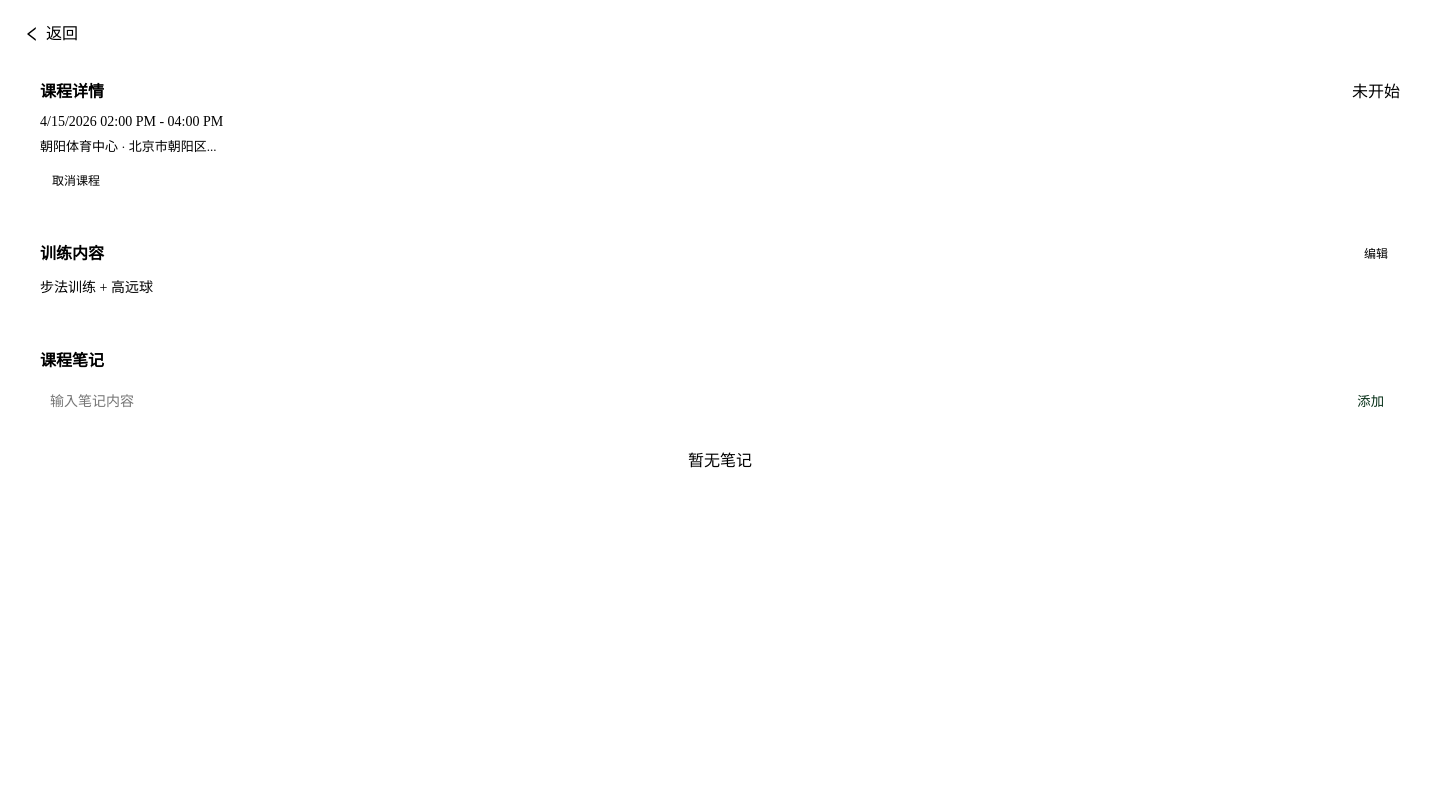
Scenario: ClassLessonDetailPage › should show cancel confirm dialog
The width and height of the screenshot is (1440, 810).
Click the button "取消课程".
click(76, 179)  # box 40,167 -> 112,192
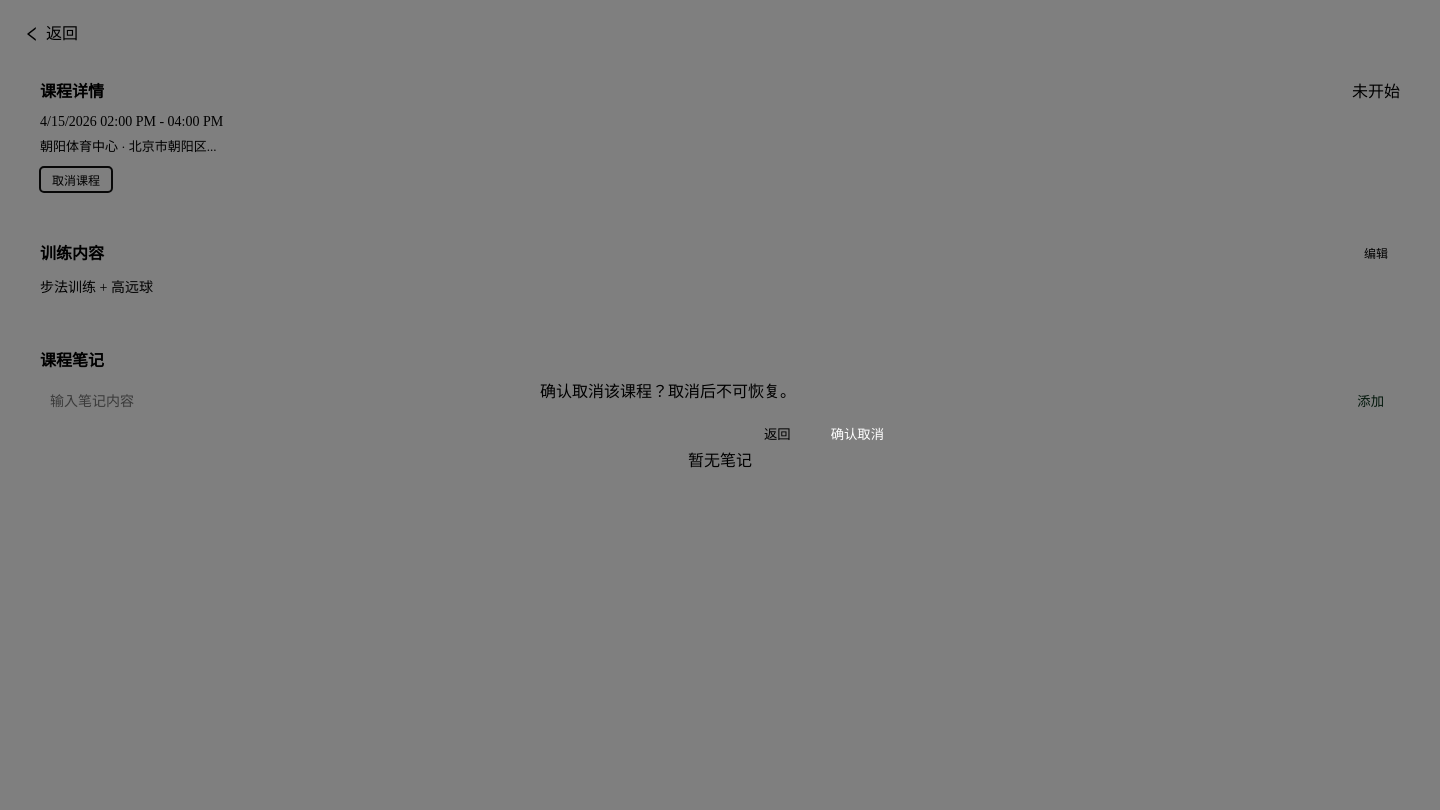
Expected: the button "确认取消" is shown, 815,418 -> 900,448
